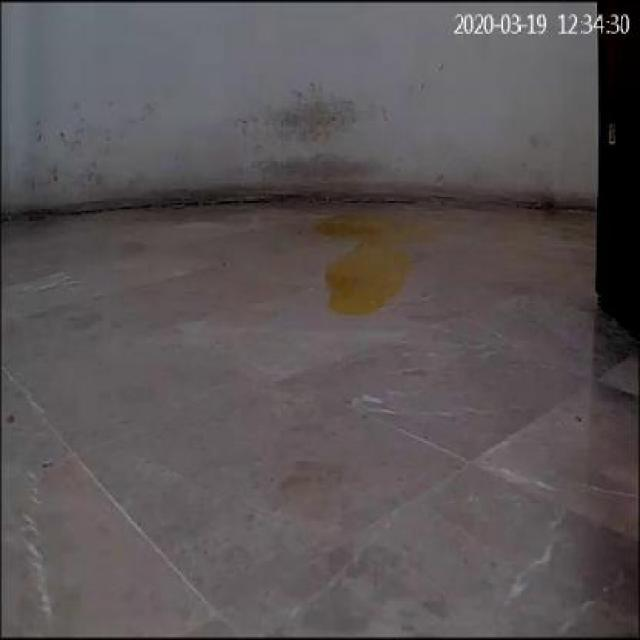spill: (314, 213, 438, 312)
